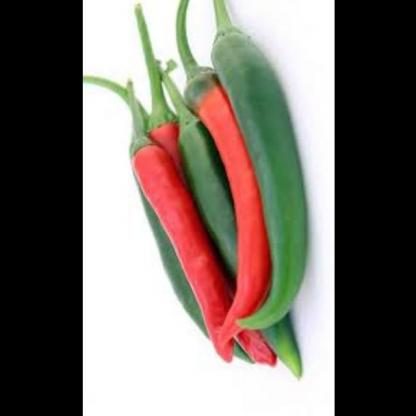hot pepper: (81, 0, 310, 390)
